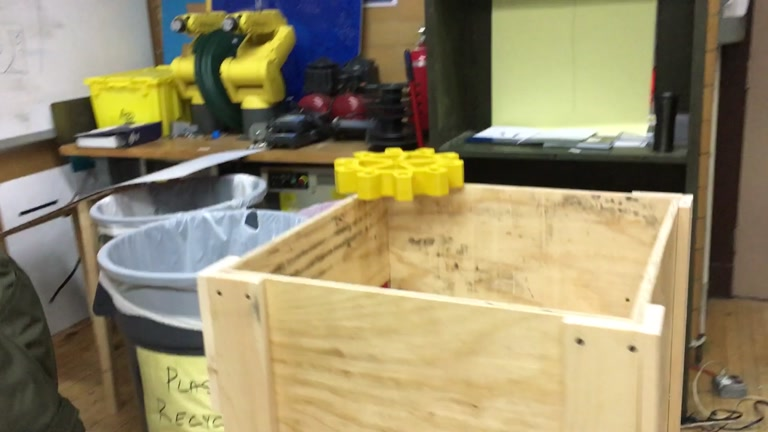gear: (332, 144, 465, 203)
